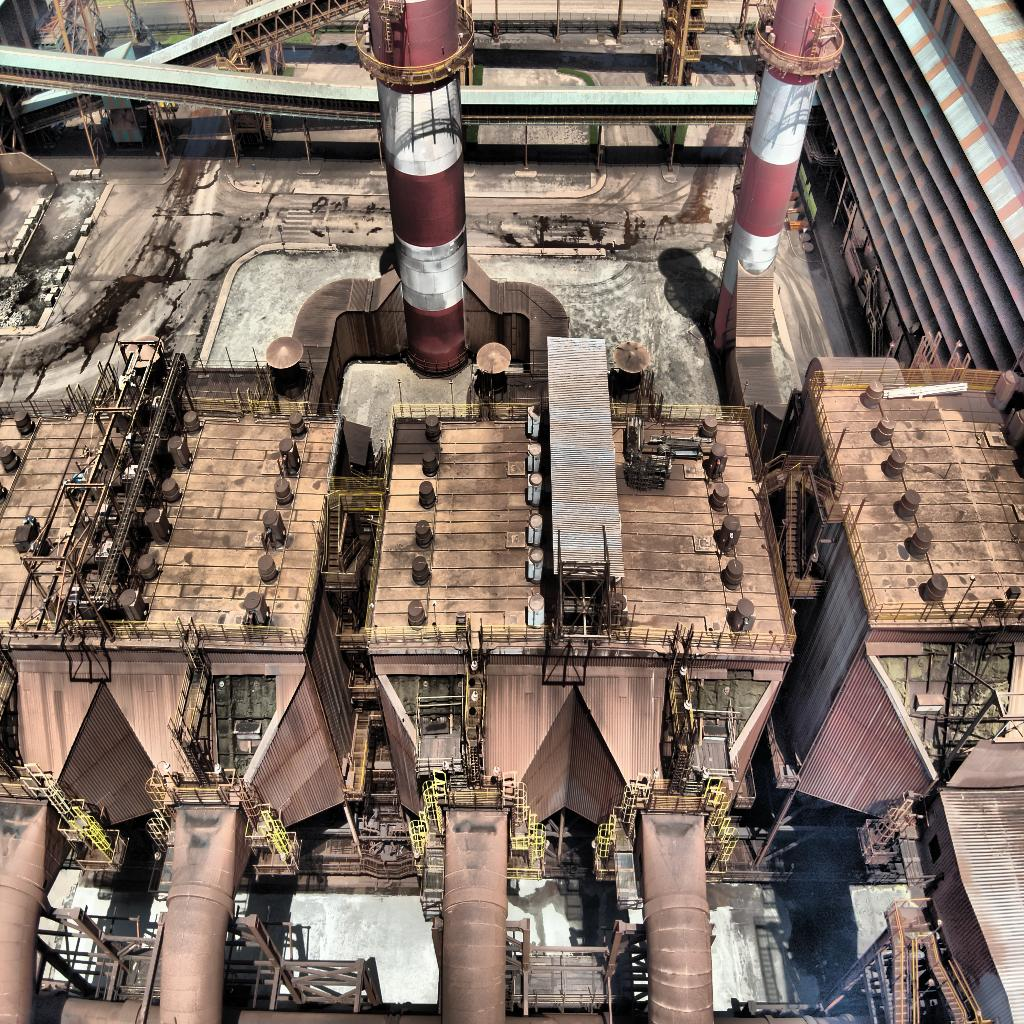Failures: (873, 643, 1019, 789), (208, 670, 280, 794), (686, 674, 772, 766), (380, 664, 470, 748)
